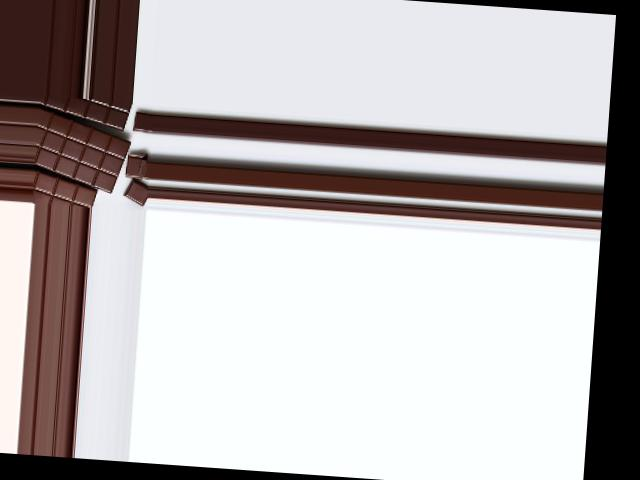chocolate: (32, 110, 131, 196)
